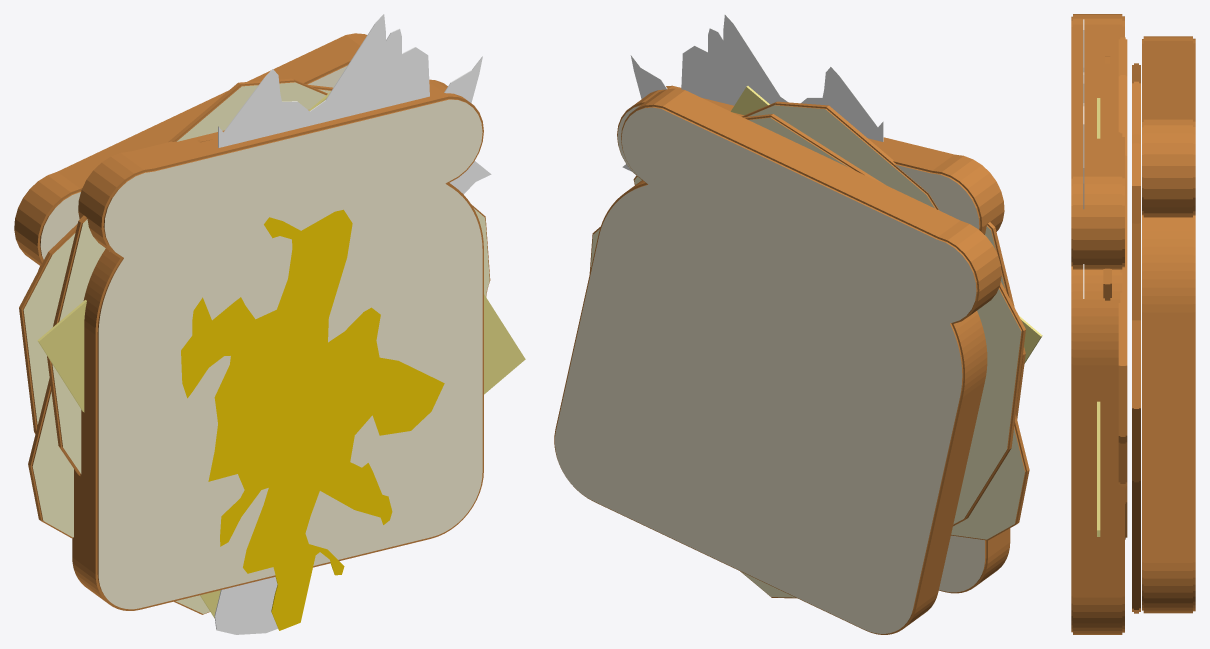
3 renders of one model, left to right at view 1: azimuth 30°, elevation 25°; view 2: azimuth 150°, elevation 25°; view 3: azimuth 270°, elevation 25°, orthographic. The views are drawn at different scales.
Visible parts, largest first — view 1: sandwich; view 2: sandwich; view 3: sandwich.
Part boxes in pixels (x1,y1,x2,y2): sandwich: (14,14,525,634); sandwich: (554,14,1042,634); sandwich: (1071,14,1195,634).
Size of the model in its own units: 141 by 163 by 29.46.
